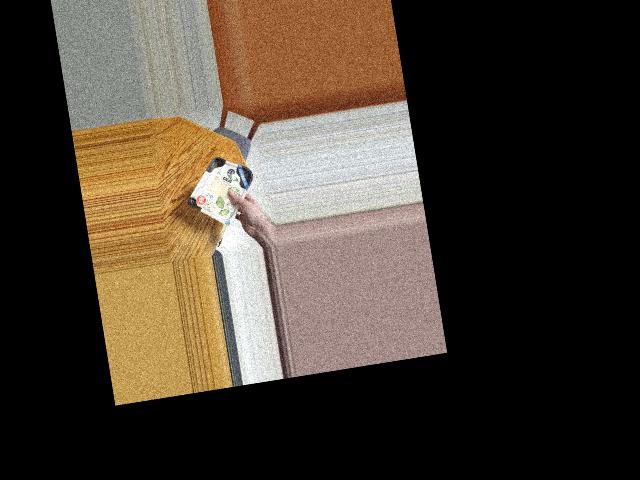cheese: (186, 151, 260, 220)
